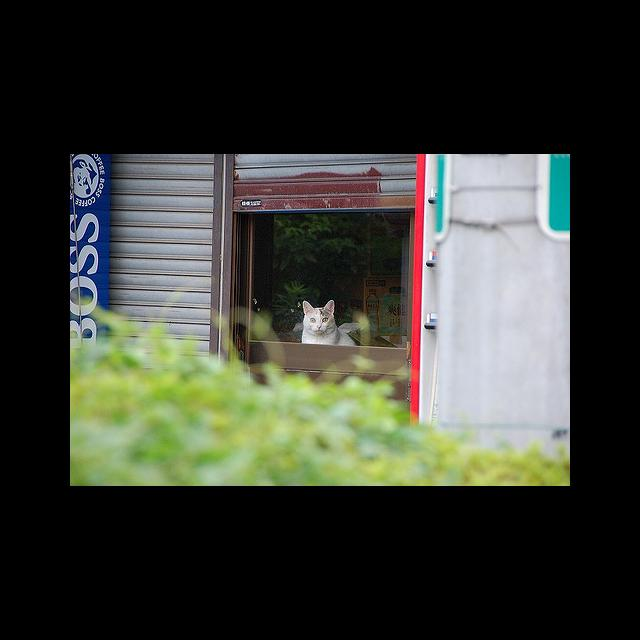animals: (304, 299, 333, 328)
